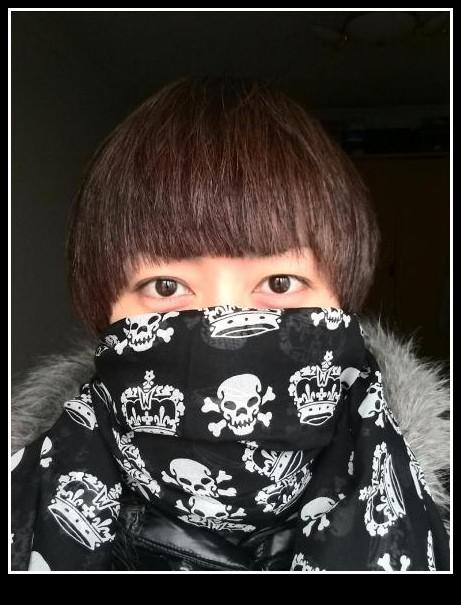OK: (126, 231, 339, 444)
